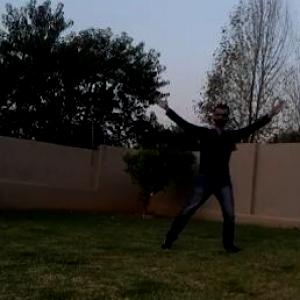takeoff: (141, 89, 271, 256)
